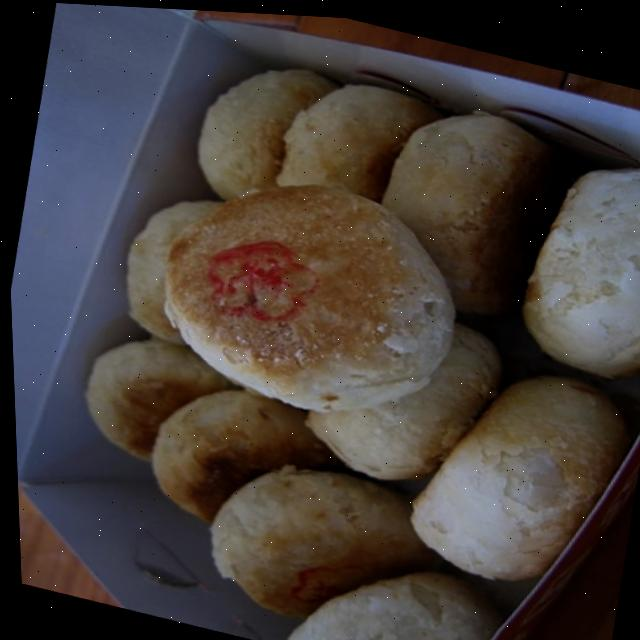蛋糕甜品: (31, 1, 640, 640)
